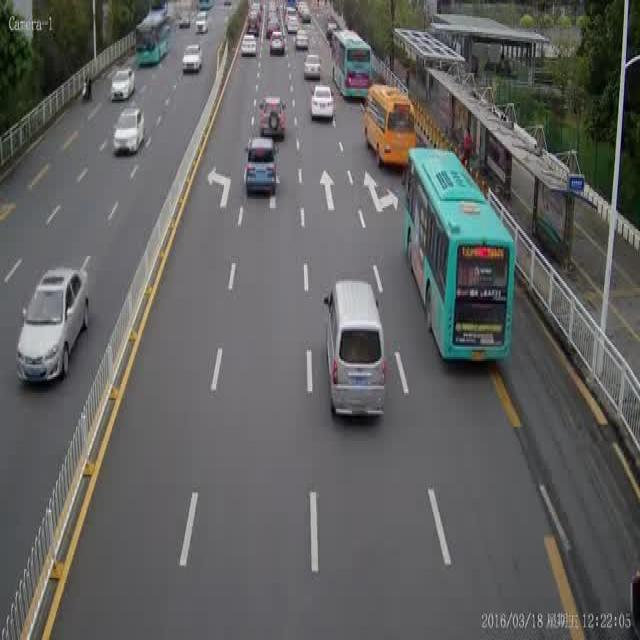Bus: (401, 136, 514, 365), (364, 78, 416, 174), (329, 29, 376, 106), (132, 10, 172, 70)
Car: (322, 276, 387, 430), (15, 265, 90, 393), (240, 139, 282, 194), (110, 106, 146, 154), (256, 93, 288, 146), (306, 85, 340, 122), (110, 62, 136, 106), (180, 44, 207, 78), (300, 50, 324, 83), (270, 29, 287, 59), (242, 30, 257, 61), (193, 9, 210, 35), (295, 29, 311, 55), (244, 12, 263, 28), (284, 7, 300, 26), (296, 4, 314, 20), (267, 9, 282, 24)
Motorcycle: (78, 73, 97, 108)
